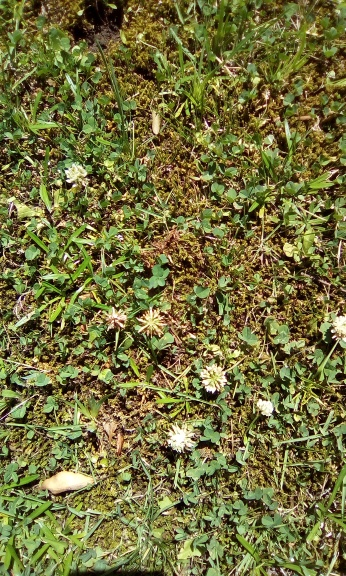4leaf: (149, 265, 170, 289)
